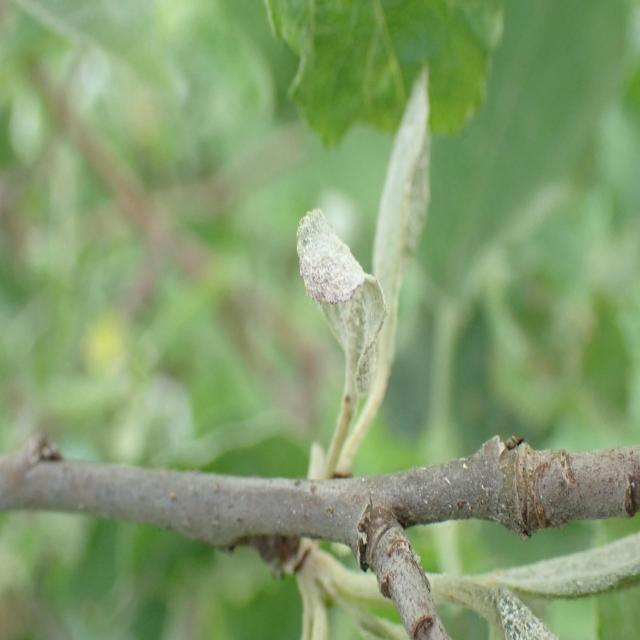Powdery_mildew: (338, 54, 434, 473), (353, 531, 640, 639), (287, 208, 386, 480)
